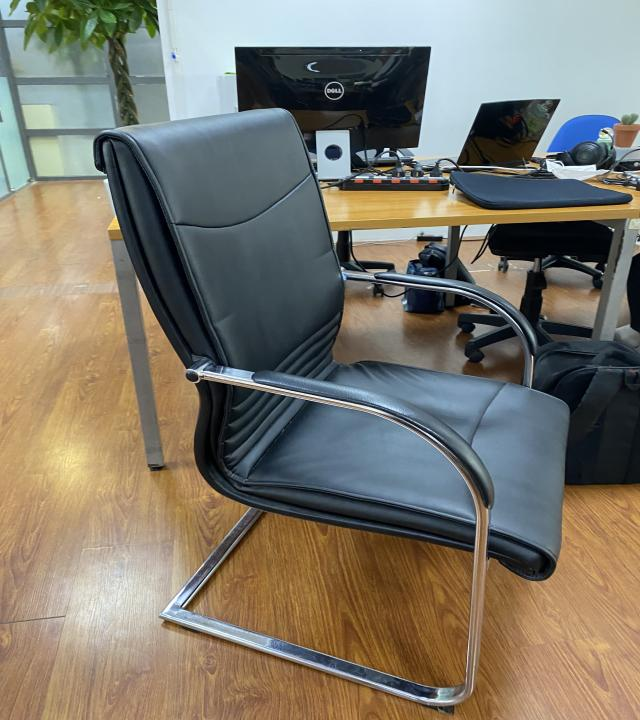SS_03: (90, 103, 576, 713)
